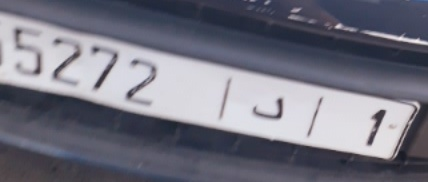1: (362, 100, 389, 149)
2: (120, 54, 160, 108), (49, 33, 83, 90)
5: (13, 22, 44, 81)
7: (88, 40, 121, 96)
d: (246, 86, 291, 125)
